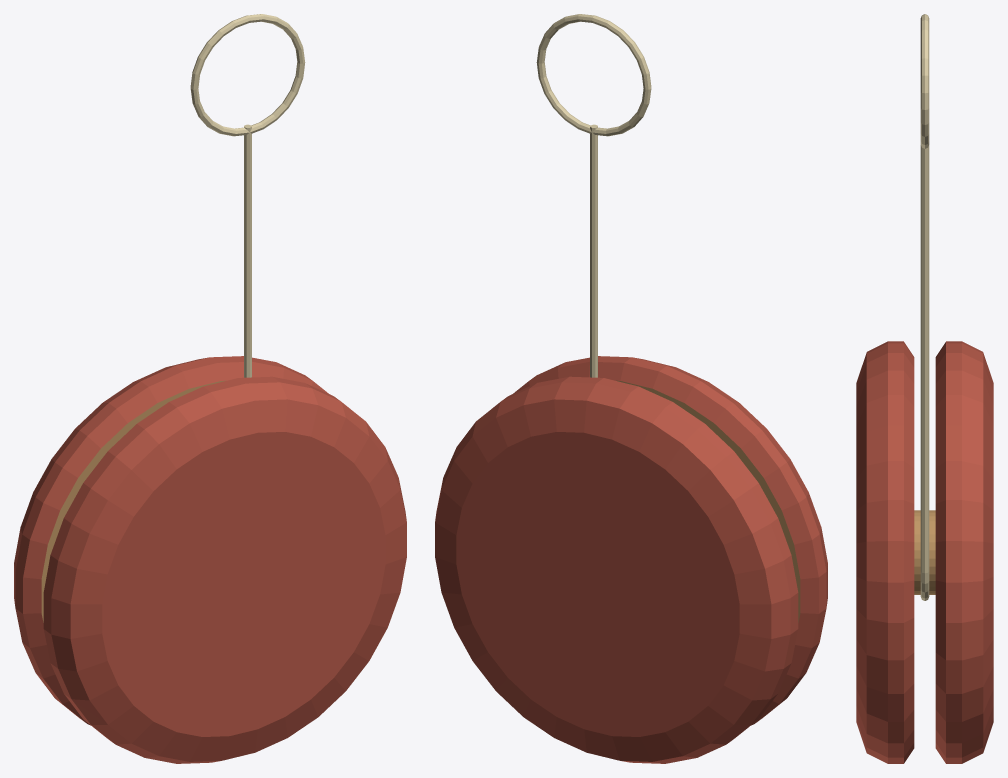
The picture shows the model from 3 angles, left to right: view 1: azimuth 30°, elevation 25°; view 2: azimuth 150°, elevation 25°; view 3: azimuth 270°, elevation 25°; orthographic projection. The views are drawn at different scales.
Parts seen in each view (by area): view 1: WholeSolidDoubleFlangeAndWaist, ClosedFingerLoop, ContinuousWoundCordAndTail; view 2: WholeSolidDoubleFlangeAndWaist, ClosedFingerLoop, ContinuousWoundCordAndTail; view 3: WholeSolidDoubleFlangeAndWaist, ContinuousWoundCordAndTail, ClosedFingerLoop.
Part boxes in pixels (box(x1,y1,x2,y2)): WholeSolidDoubleFlangeAndWaist: box(14, 356, 406, 763); ClosedFingerLoop: box(190, 14, 305, 136); ContinuousWoundCordAndTail: box(244, 124, 251, 377); WholeSolidDoubleFlangeAndWaist: box(435, 356, 827, 763); ClosedFingerLoop: box(536, 14, 651, 136); ContinuousWoundCordAndTail: box(590, 124, 597, 377); WholeSolidDoubleFlangeAndWaist: box(856, 341, 993, 763); ContinuousWoundCordAndTail: box(920, 145, 929, 600); ClosedFingerLoop: box(920, 14, 929, 148).
Size of the model in its own units: 0.0796 by 0.1548 by 0.026.
